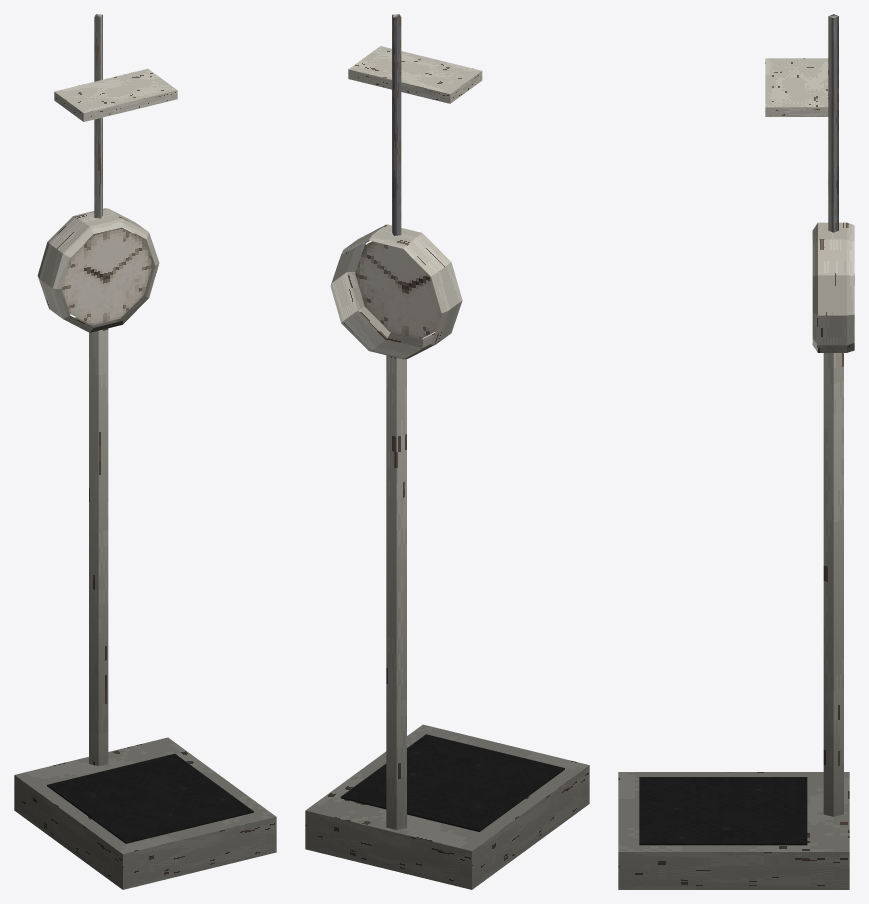
The model's file is prop_scale.glb.
3 renders of one model, left to right at view 1: azimuth 30°, elevation 25°; view 2: azimuth 150°, elevation 25°; view 3: azimuth 270°, elevation 25°, orthographic. The views are drawn at different scales.
Parts seen in each view (by area): view 1: prop_scale; view 2: prop_scale; view 3: prop_scale.
Boxes of the visible parts, bbox=[...] form: prop_scale: bbox=[14, 14, 276, 889]; prop_scale: bbox=[305, 14, 589, 889]; prop_scale: bbox=[618, 14, 854, 889].
Bounding box in the file's own units: 0.36 × 1.75 × 0.45.
3 materials, 3 textured.
